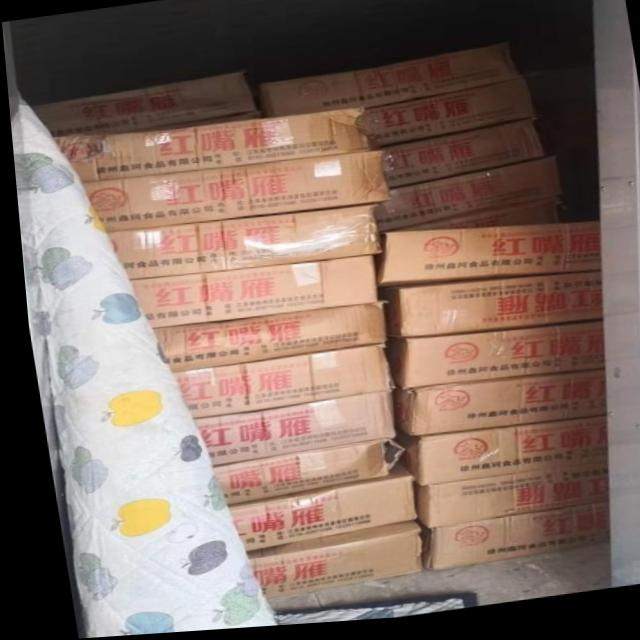box: (49, 112, 370, 185), (79, 156, 384, 231), (257, 49, 521, 121), (102, 211, 376, 278), (122, 262, 372, 331), (218, 465, 408, 555), (166, 347, 385, 420), (146, 306, 379, 374), (380, 328, 602, 396), (25, 73, 256, 136), (183, 396, 388, 466), (380, 277, 598, 342), (376, 228, 599, 291), (372, 163, 558, 238), (389, 424, 602, 488), (385, 377, 600, 439), (234, 527, 411, 601), (405, 470, 602, 534), (356, 83, 533, 154), (410, 510, 603, 574), (199, 444, 394, 507), (376, 127, 537, 193), (392, 204, 567, 235)
